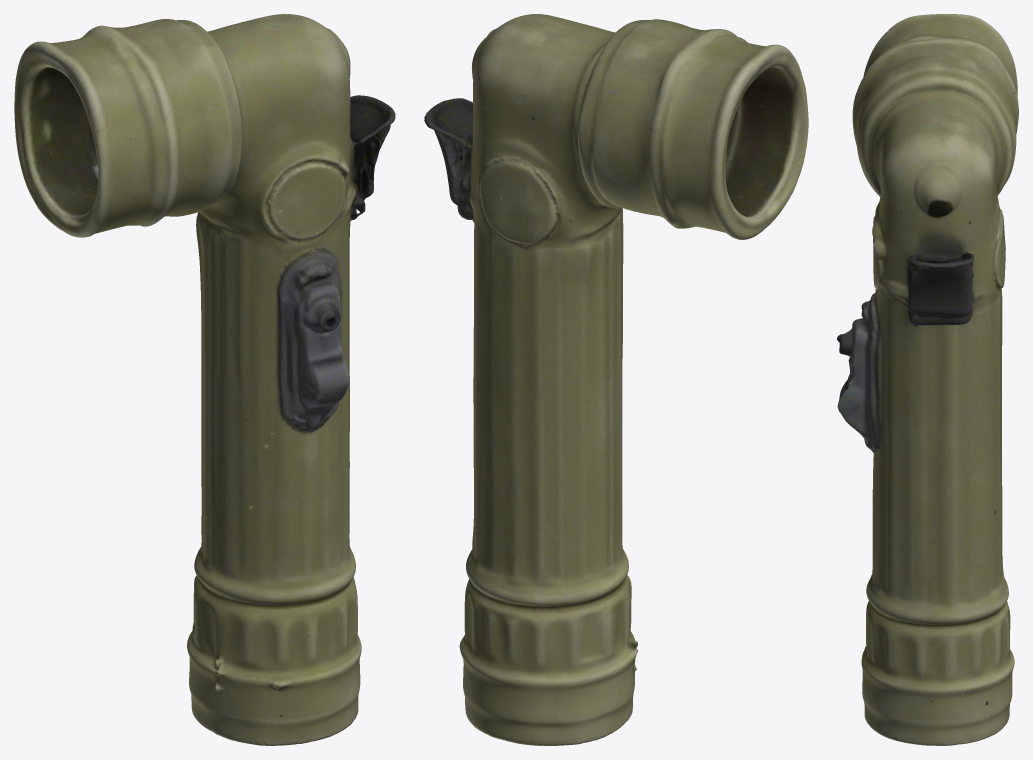
Rendered from Flashlight.glb.
3 views of the same model, side by side, from view 1: azimuth 30°, elevation 25°; view 2: azimuth 150°, elevation 25°; view 3: azimuth 270°, elevation 25° (orthographic). The views are drawn at different scales.
Size of the model in its own units: 0.9853 by 2 by 0.5383.
Materials: 1 (1 with a texture image).
